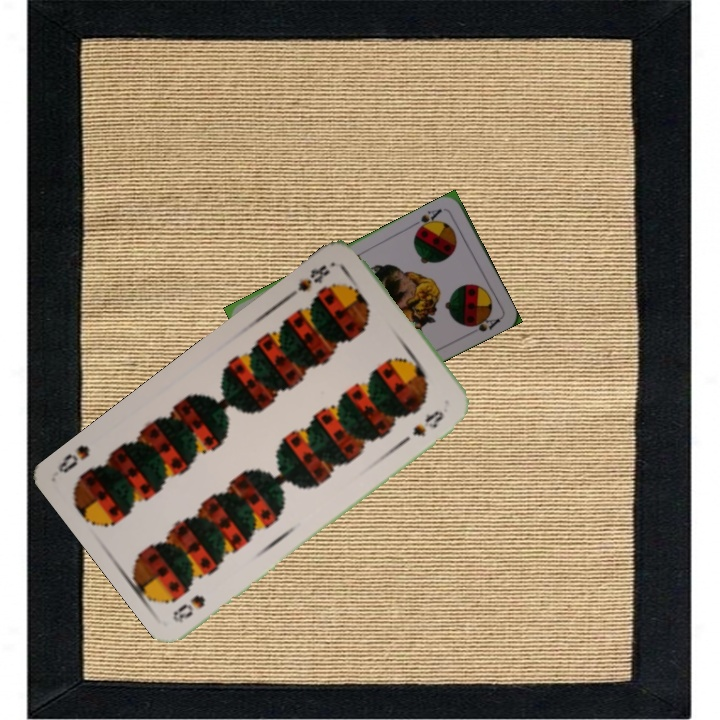S8: (286, 260, 333, 299), (168, 591, 208, 626)
SA: (409, 204, 445, 234)
